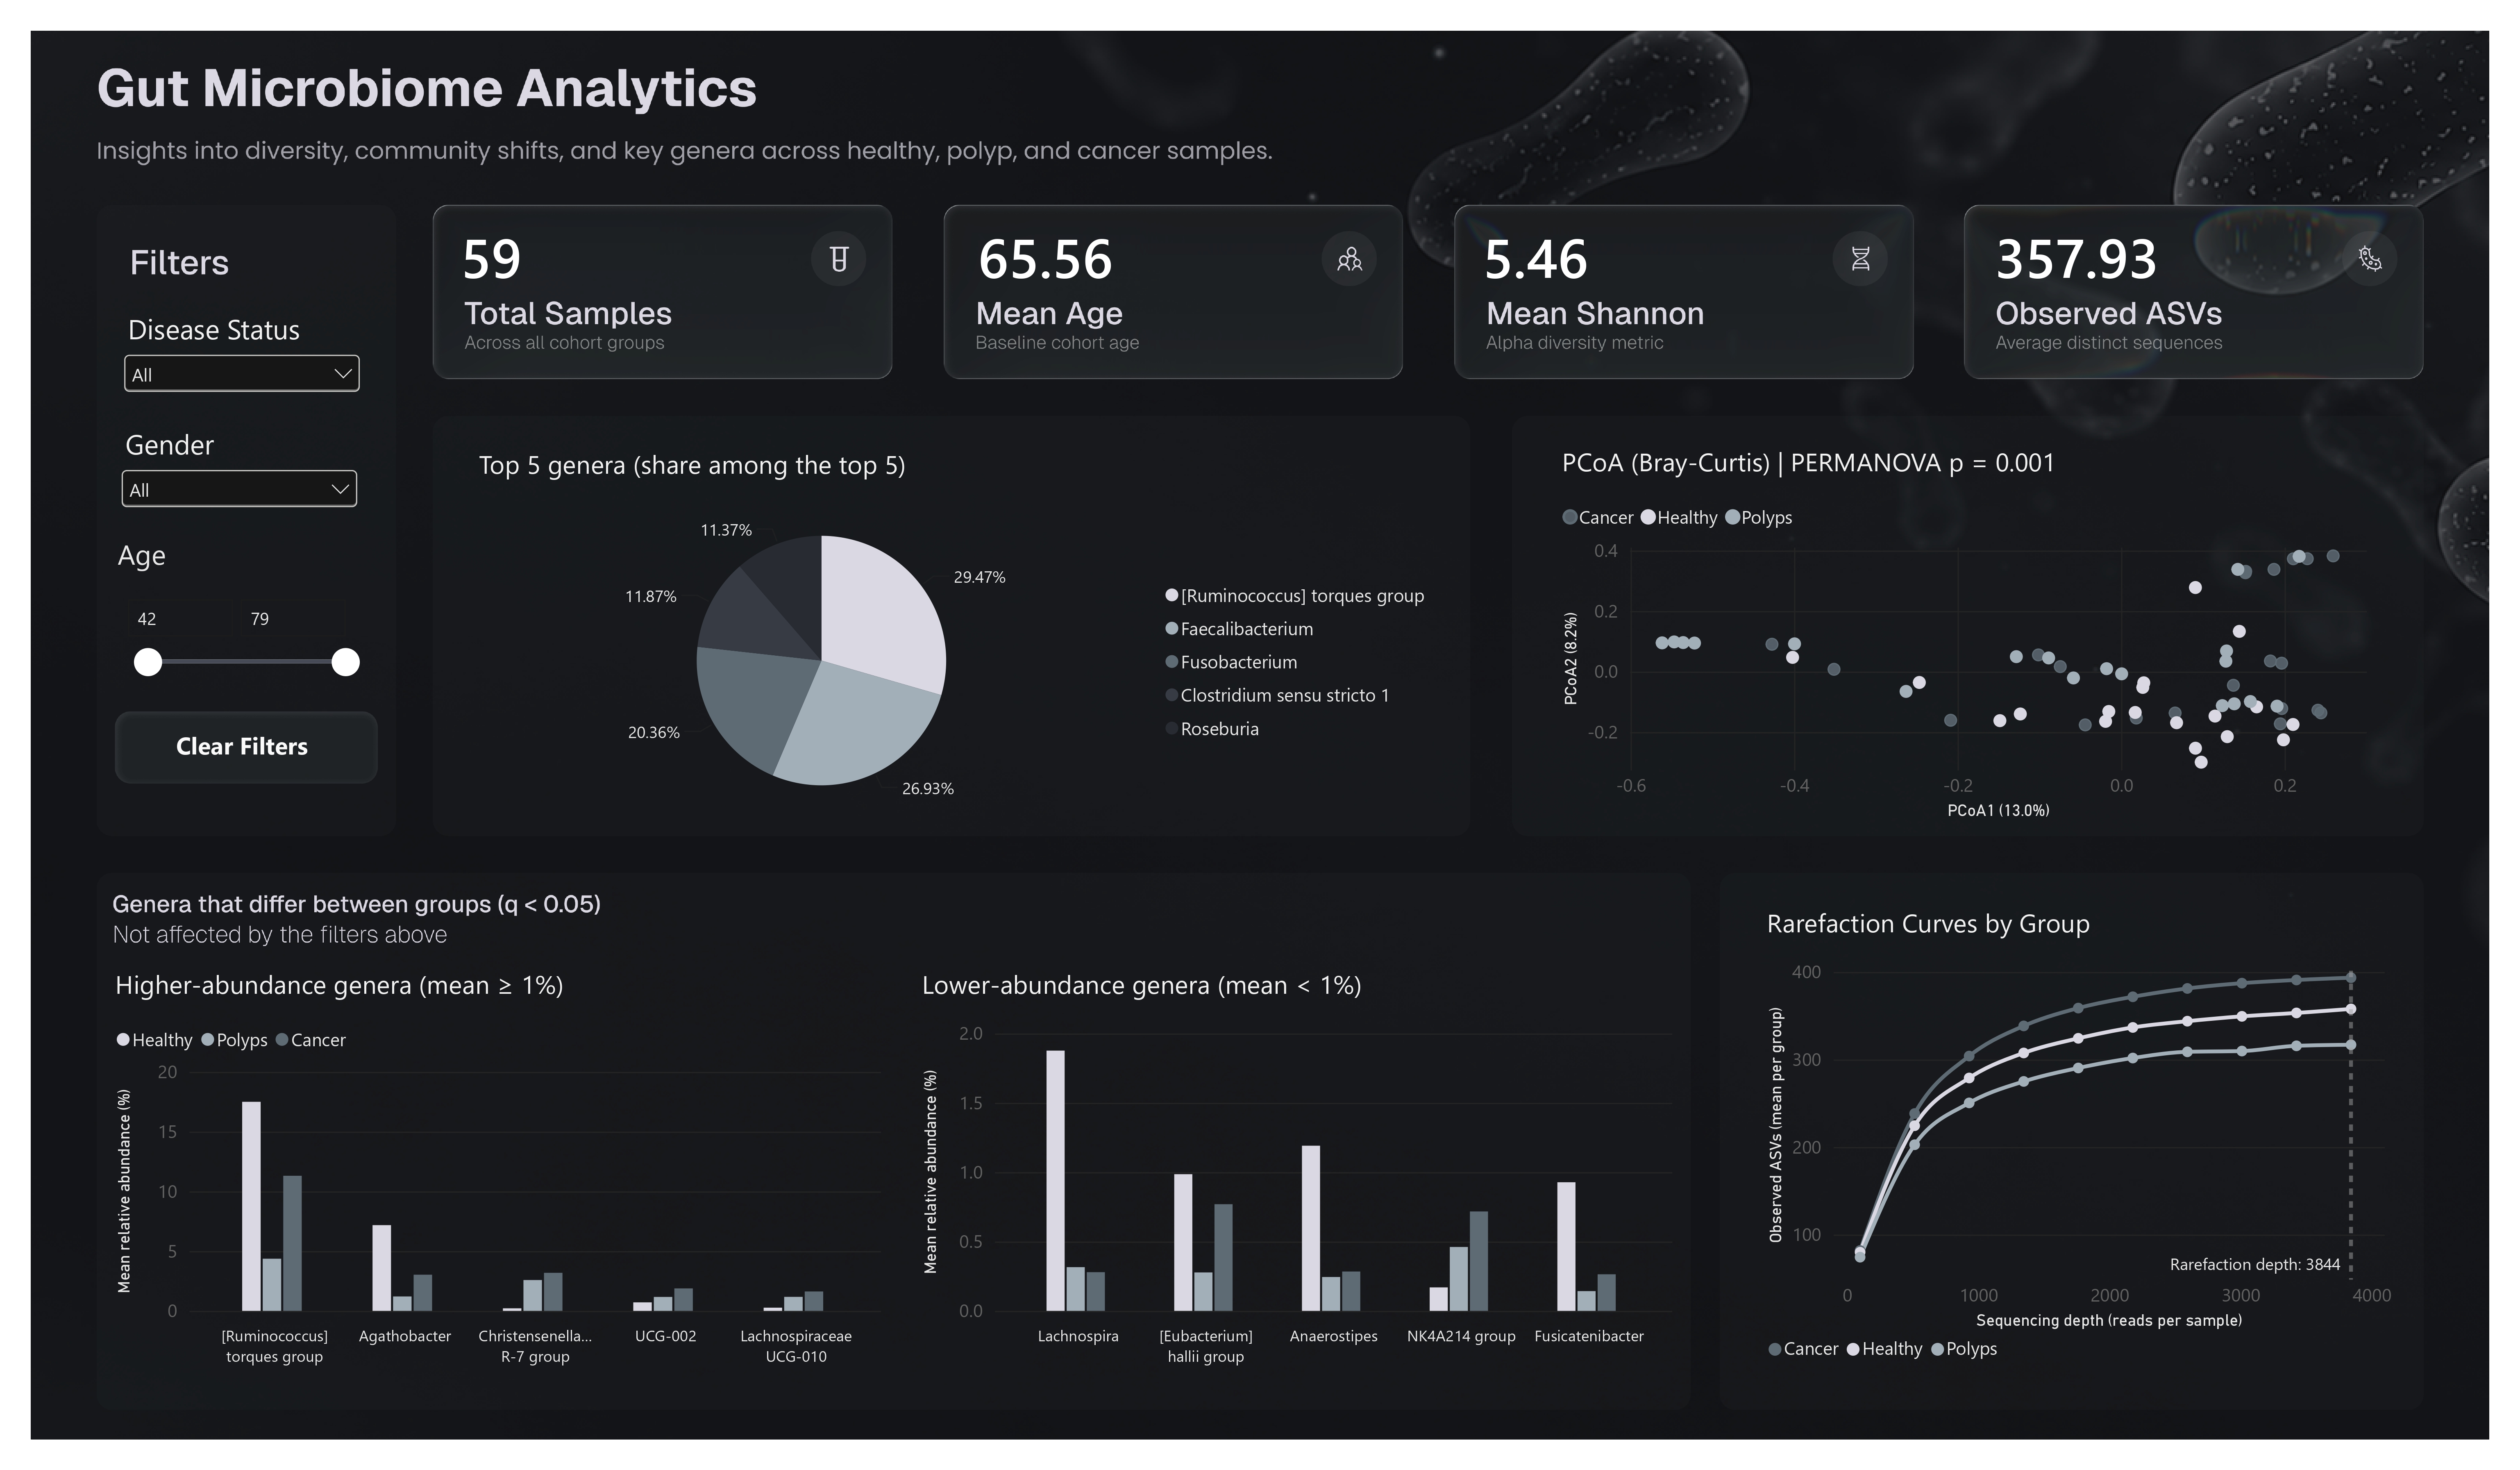

Layout of this report page (visuals, bound fields, positions):
{"tool":"powerbi","page":{"name":"Page 1","canvas":[1920,1100],"ordinal":0},"visuals":[{"type":"scatterChart","title":"PCoA (Bray-Curtis) | PERMANOVA p = 0.001","fields":{"Series":["Samples.Custom"],"X":["PCoA.PCoA1"],"Y":["PCoA.PCoA2"]},"box":[1180,308,670,324],"z":0},{"type":"pieChart","title":"Top 5 genera (share among the top 5)","fields":{"Category":["GenusAbundance.Genus"],"Y":["Avg(GenusAbundance.Relative_Abundance)"]},"box":[334,310,780,324],"z":1000},{"type":"slicer","fields":{"Values":["Samples.DiseaseStatus"]},"box":[68,218,194,76],"z":2000},{"type":"slicer","fields":{"Values":["Samples.Sex"]},"box":[66,308,194,80],"z":3000},{"type":"slicer","title":"Age","fields":{"Values":["Samples.Age"]},"box":[68,394,194,114],"z":4000},{"type":"cardVisual","title":"Samples","fields":{"Data":["Count(Samples.host_disease)"]},"box":[320,128,180,94],"z":5000},{"type":"clusteredColumnChart","title":"Higher-abundance genera (mean ≥ 1%)","fields":{"Category":["DiffGenera.Genus"],"Y":["Sum(DiffGenera.Mean_%_Healthy)","Sum(DiffGenera.Mean_%_Adenomatous Polyps)","Sum(DiffGenera.Mean_%_Colorectal cancer)"]},"box":[50,716,630,346],"z":6000},{"type":"clusteredColumnChart","title":"Lower-abundance genera (mean < 1%)","fields":{"Category":["DiffGenera.Genus"],"Y":["Sum(DiffGenera.Mean_%_Healthy)","Sum(DiffGenera.Mean_%_Adenomatous Polyps)","Sum(DiffGenera.Mean_%_Colorectal cancer)"]},"box":[680,716,618,346],"z":7000},{"type":"actionButton","box":[68,534,194,50],"z":8000},{"type":"lineChart","title":"Rarefaction Curves by Group","fields":{"Category":["Rarefaction.Depth"],"Series":["Samples.Custom"],"Y":["Avg(Rarefaction.Observed_ASVs)"]},"box":[1340,668,520,392],"z":9000},{"type":"cardVisual","title":"Samples","fields":{"Data":["Avg(Samples.Age)"]},"box":[724,128,180,94],"z":10000},{"type":"cardVisual","title":"Samples","fields":{"Data":["Avg(Samples.Shannon_Index)"]},"box":[1118,128,180,94],"z":11000},{"type":"cardVisual","title":"Samples","fields":{"Data":["Avg(Samples.Observed_ASVs)"]},"box":[1518,128,180,94],"z":12000}]}

Visuals, with their boxes on the page's 1920x1100 design canvas (x1, y1, x2, y2). These are canvas units, not pixel positions in the 2520x1470 screenshot, which may show the page scaled, cropped or inside an application window:
"PCoA (Bray-Curtis) | PERMANOVA p = 0.001" scatterChart: <box>1180,308,1850,632</box>
"Top 5 genera (share among the top 5)" pieChart: <box>334,310,1114,634</box>
slicer - Samples.DiseaseStatus: <box>68,218,262,294</box>
slicer - Samples.Sex: <box>66,308,260,388</box>
"Age" slicer: <box>68,394,262,508</box>
"Samples" cardVisual: <box>320,128,500,222</box>
"Higher-abundance genera (mean ≥ 1%)" clusteredColumnChart: <box>50,716,680,1062</box>
"Lower-abundance genera (mean < 1%)" clusteredColumnChart: <box>680,716,1298,1062</box>
actionButton: <box>68,534,262,584</box>
"Rarefaction Curves by Group" lineChart: <box>1340,668,1860,1060</box>
"Samples" cardVisual: <box>724,128,904,222</box>
"Samples" cardVisual: <box>1118,128,1298,222</box>
"Samples" cardVisual: <box>1518,128,1698,222</box>
